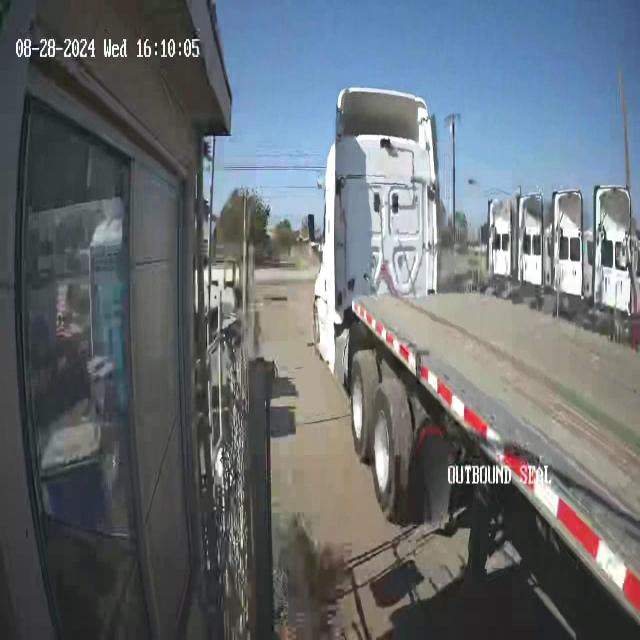BOBTAIL: (306, 83, 640, 640)
